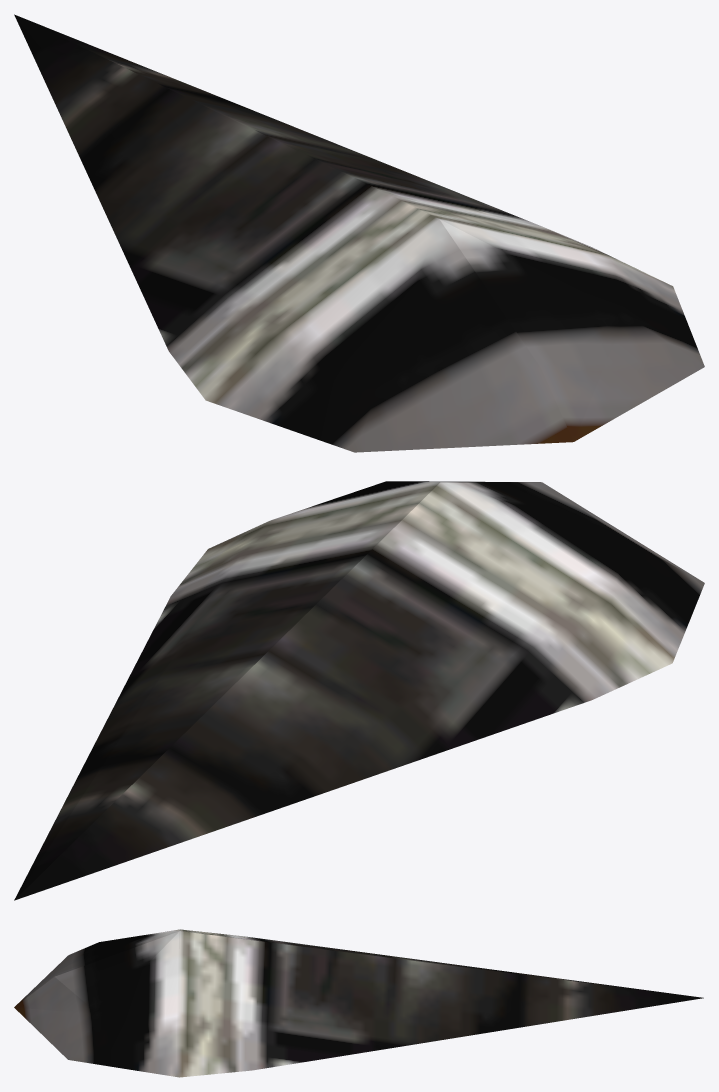
3 views of the same model, one above another, from view 1: azimuth 30°, elevation 25°; view 2: azimuth 150°, elevation 25°; view 3: azimuth 270°, elevation 25° (orthographic). The views are drawn at different scales.
Visible parts, largest first — view 1: e_nb_shield_none; view 2: e_nb_shield_none; view 3: e_nb_shield_none.
Boxes of the visible parts, x1,y1,x2,y2 form: e_nb_shield_none: (14, 14, 704, 452); e_nb_shield_none: (14, 481, 704, 900); e_nb_shield_none: (14, 929, 703, 1077).
Bounding box in the file's own units: 48.59 × 12.4 × 101.
1 material, 1 textured.
